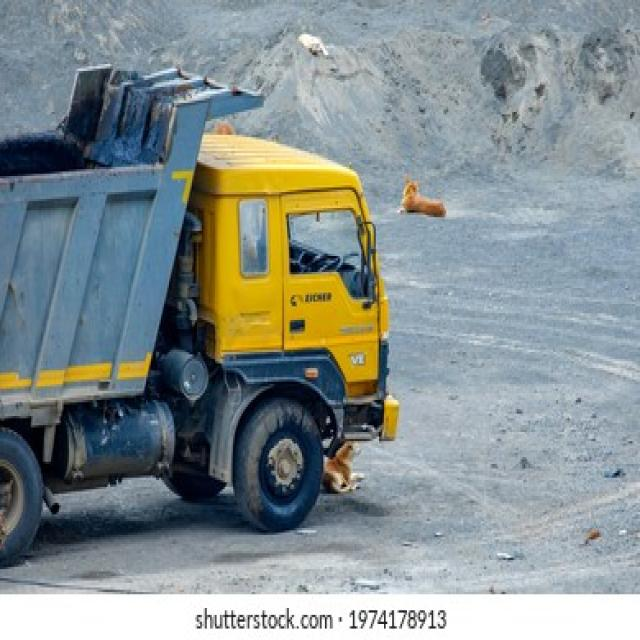truck: (1, 66, 399, 565)
